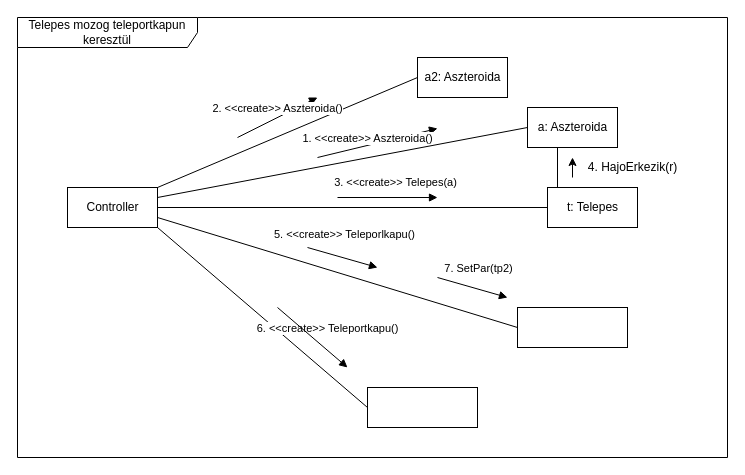
Image size: 745x475. Some labels were removed from this diagram. Each missing label, with the box of its shape:
tp2: Teleportkapu: (366, 386, 478, 428)
tp: Teleportkapu: (516, 306, 628, 348)
